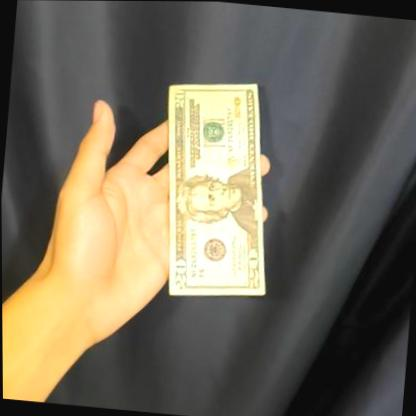twenty-front: (145, 70, 278, 303)
